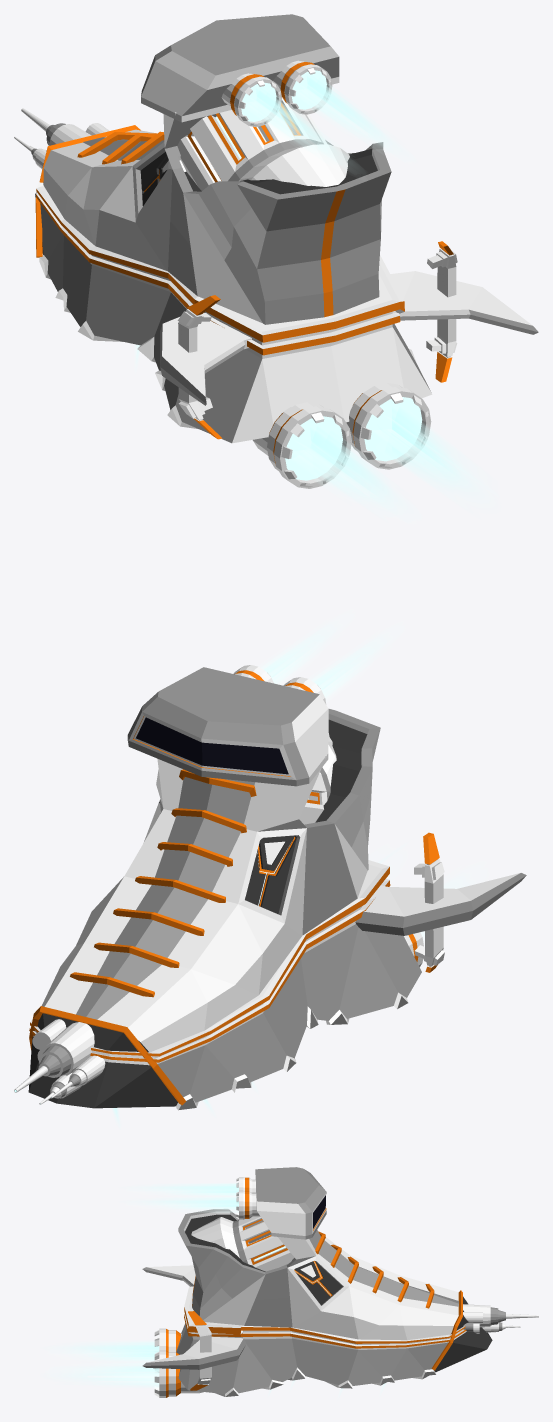
Rendered from galaxy.glb.
3 views of the same model, one above another, from view 1: azimuth 30°, elevation 25°; view 2: azimuth 150°, elevation 25°; view 3: azimuth 270°, elevation 25° (orthographic). The views are drawn at different scales.
Visible parts, largest first — view 1: Line001; view 2: Line001; view 3: Line001.
Boxes of the visible parts, x1=… form: Line001: x1=14, y1=14, x2=538, y2=514; Line001: x1=14, y1=619, x2=526, y2=1123; Line001: x1=60, y1=1167, x2=538, y2=1397.
Bounding box in the file's own units: 387 × 411 × 935.
Materials: 7 (1 with a texture image).
